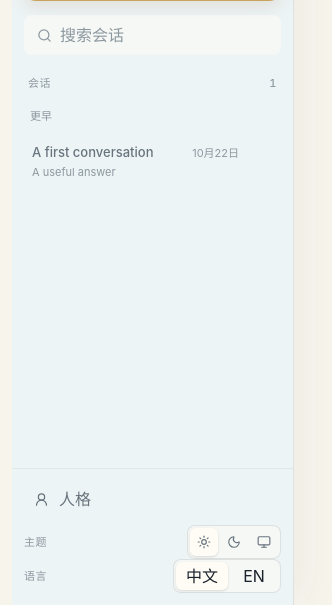
Test: Sidebar › navigates to a selected conversation
Click the button "A first conversation" at (136, 161), box [20,132,251,190]
(page scrolled)
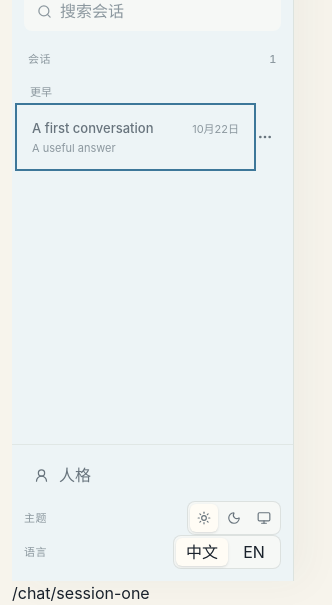
Now the text with test id "location" reads "/chat/session-one", box [12,583,150,603]
